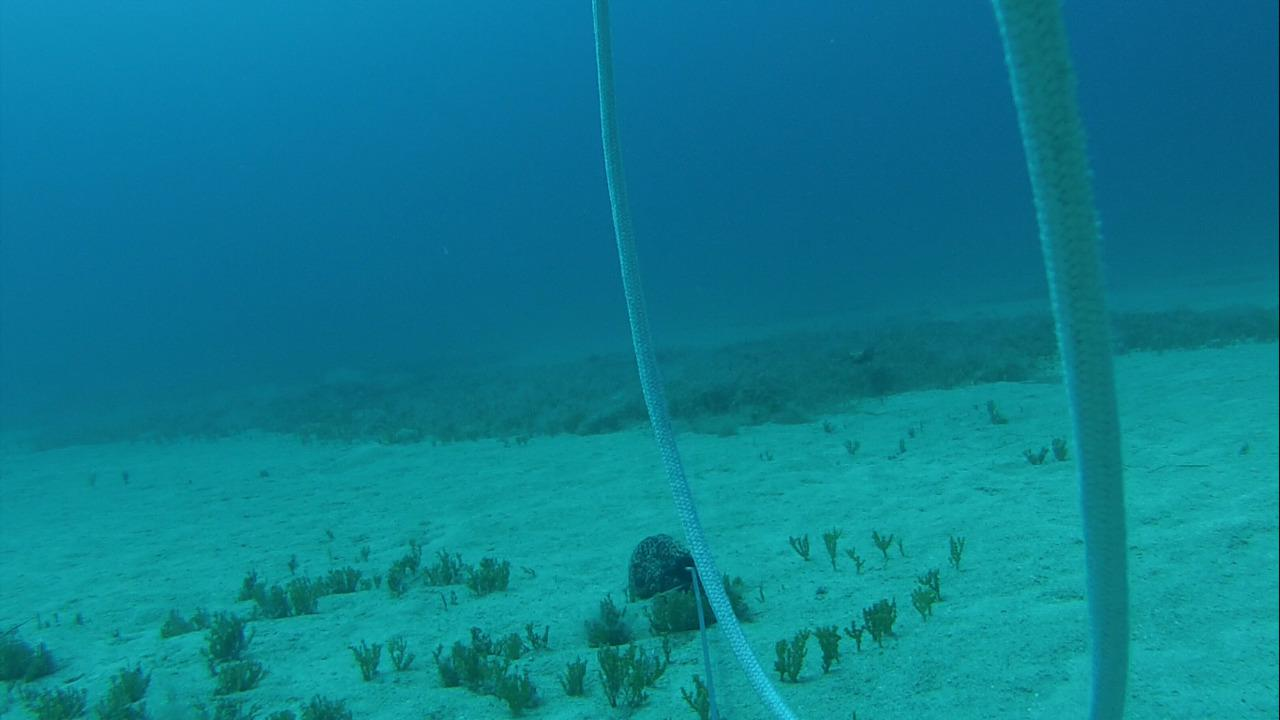dactylopterus: (801, 329, 887, 373)
